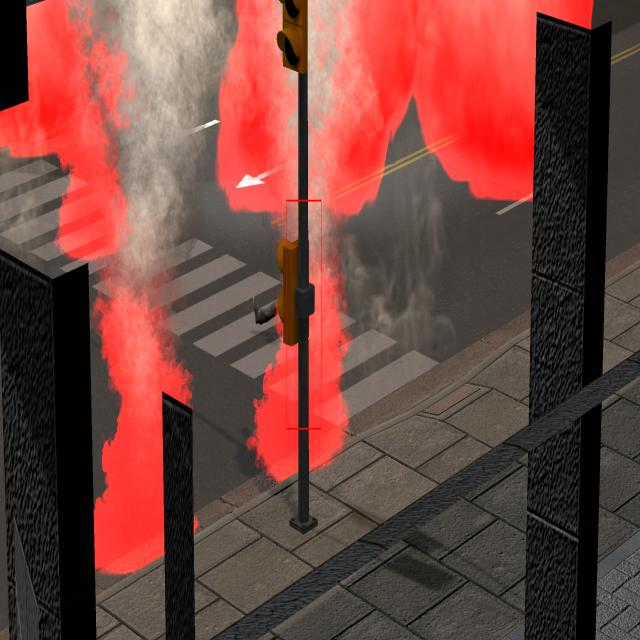Human: (250, 235, 304, 350)
